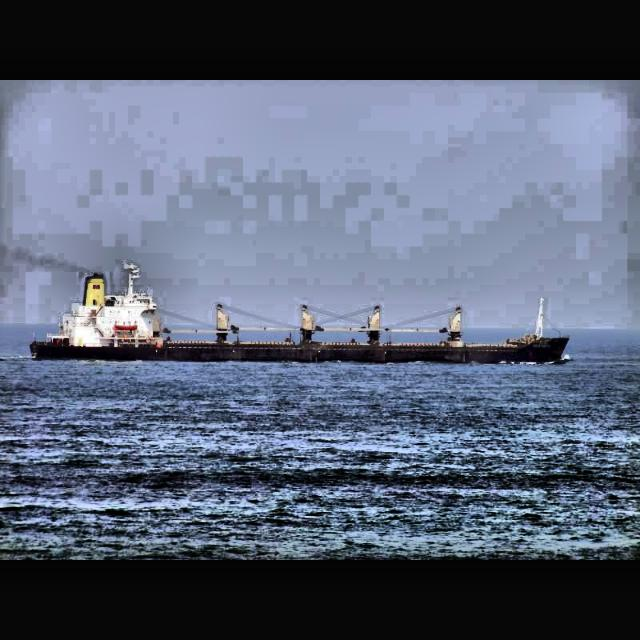bulk_carrier: (29, 262, 573, 364)
